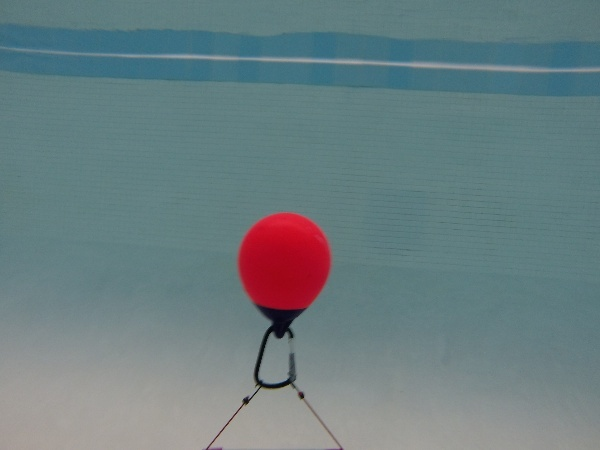buoy_red: (235, 211, 329, 337)
